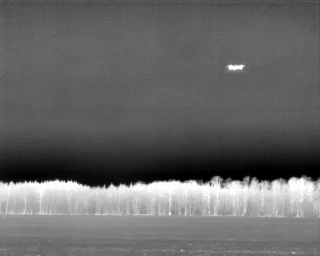DRONE: (223, 59, 248, 77)
